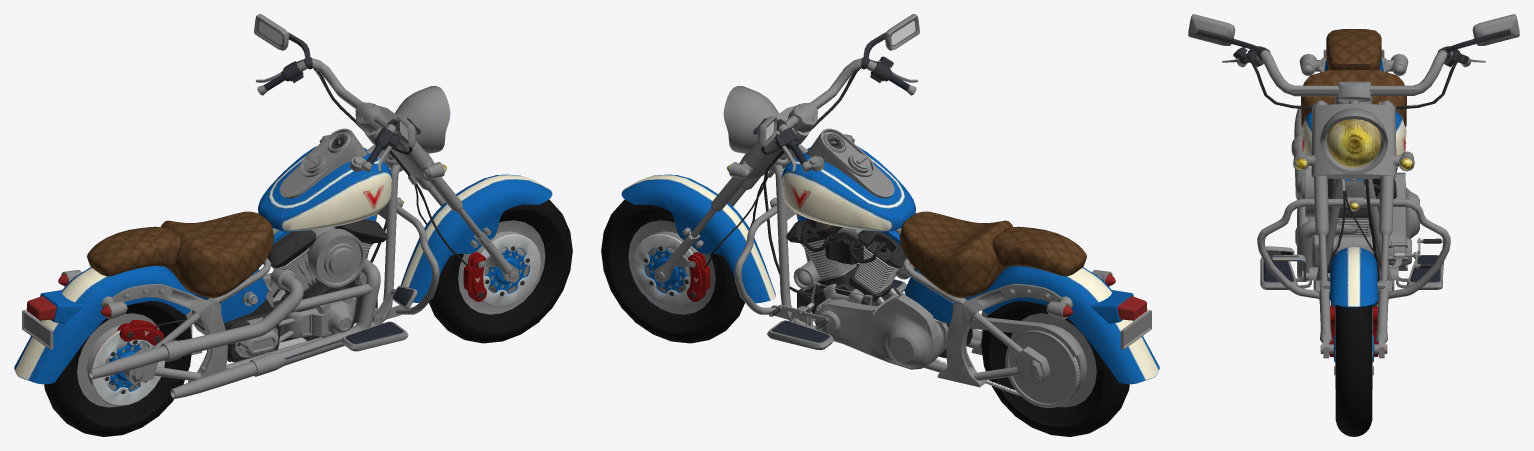
Rendered from veh-cruiser.glb.
The picture shows the model from 3 angles, left to right: view 1: azimuth 30°, elevation 25°; view 2: azimuth 150°, elevation 25°; view 3: azimuth 270°, elevation 25°; orthographic projection. The views are drawn at different scales.
Visible parts, largest first — view 1: polySurface7_UV_Tyres1_0, polySurface34_UV_Tyres1_0, pCube1_UV_Body1_0, polySurface8_UV_Body1_0, polySurface6_UV_Body1_0, pCube2_UV_Body1_0, pCylinder53_UV_Engine1_0, polySurface17_UV_Engine1_0, pCube8_UV_Body1_0, pCylinder12_UV_Frame1_0, polySurface16_UV_Engine1_0, pPlane1_UV_Frame1_0 (+24 smaller); view 2: polySurface7_UV_Tyres1_0, polySurface34_UV_Tyres1_0, pCube1_UV_Body1_0, polySurface8_UV_Body1_0, polySurface26_UV_Engine1_0, polySurface6_UV_Body1_0, pCube2_UV_Body1_0, polySurface16_UV_Engine1_0, pPlane1_UV_Frame1_0, pCube8_UV_Body1_0, polySurface29_UV_Engine1_0, pCylinder12_UV_Frame1_0 (+20 smaller); view 3: polySurface20_UV_Frame1_0, polySurface7_UV_Tyres1_0, pCylinder5_UV_Body1_0, pDisc5_UV_Frame1_0, polySurface46_UV_Frame1_0, polySurface8_UV_Body1_0, pCube28_UV_Frame1_0, pCube8_UV_Body1_0, pCube1_UV_Body1_0, pCylinder12_UV_Frame1_0, polySurface26_UV_Engine1_0, polySurface23_UV_Frame1_0 (+13 smaller).
Boxes of the visible parts, x1,y1,x2,y2 form: polySurface7_UV_Tyres1_0: (429,199,572,343); polySurface34_UV_Tyres1_0: (44,301,191,436); pCube1_UV_Body1_0: (160,211,274,297); polySurface8_UV_Body1_0: (400,174,552,302); polySurface6_UV_Body1_0: (14,266,195,384); pCube2_UV_Body1_0: (258,146,392,231); pCylinder53_UV_Engine1_0: (88,268,303,379); polySurface17_UV_Engine1_0: (170,258,380,398); pCube8_UV_Body1_0: (87,226,181,276); pCylinder12_UV_Frame1_0: (151,161,400,380); polySurface16_UV_Engine1_0: (267,215,387,299); pPlane1_UV_Frame1_0: (108,284,227,382); polySurface7_UV_Tyres1_0: (601,199,744,343); polySurface34_UV_Tyres1_0: (981,301,1129,436); pCube1_UV_Body1_0: (899,211,1013,297); polySurface8_UV_Body1_0: (621,174,775,303); polySurface26_UV_Engine1_0: (814,294,948,369); polySurface6_UV_Body1_0: (978,266,1159,384); pCube2_UV_Body1_0: (781,146,915,231); polySurface16_UV_Engine1_0: (786,215,906,301); pPlane1_UV_Frame1_0: (937,284,1063,387); pCube8_UV_Body1_0: (992,226,1086,276); polySurface29_UV_Engine1_0: (1005,330,1078,407); pCylinder12_UV_Frame1_0: (773,161,1023,380); polySurface20_UV_Frame1_0: (1311,100,1396,343); polySurface7_UV_Tyres1_0: (1320,305,1387,436); pCylinder5_UV_Body1_0: (1319,108,1388,174); pDisc5_UV_Frame1_0: (1257,197,1450,300); polySurface46_UV_Frame1_0: (1222,46,1485,96); polySurface8_UV_Body1_0: (1322,247,1385,313); pCube28_UV_Frame1_0: (1188,14,1519,52); pCube8_UV_Body1_0: (1326,29,1381,69); pCube1_UV_Body1_0: (1301,70,1406,127); pCylinder12_UV_Frame1_0: (1313,179,1394,290); polySurface26_UV_Engine1_0: (1392,172,1419,268); polySurface23_UV_Frame1_0: (1260,255,1443,289).
Bounding box in the file's own units: 0.1842 × 0.099 × 0.0904.
4 materials, 4 textured.
